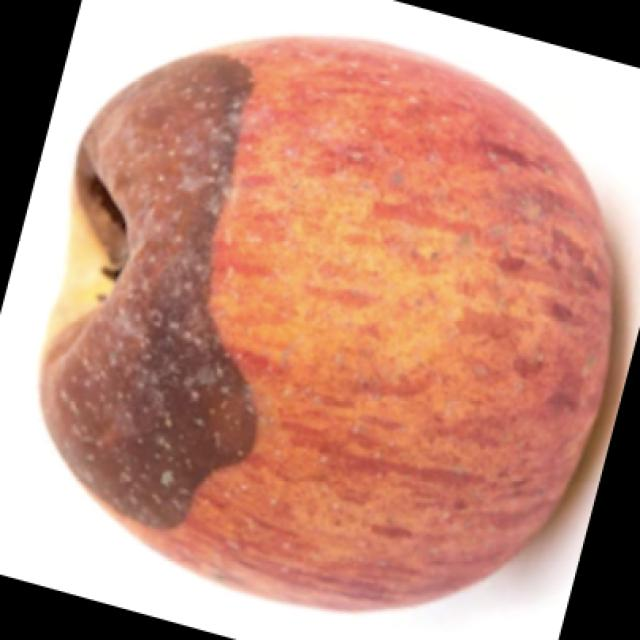Rotten: (28, 31, 640, 617)
